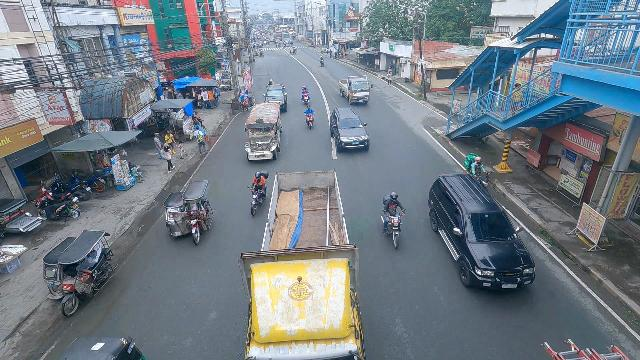car: (426, 172, 539, 295), (329, 106, 372, 152)
jeepney: (244, 102, 283, 165)
motorcycle: (382, 191, 407, 253), (244, 170, 271, 216), (303, 106, 316, 130), (300, 85, 311, 105), (319, 57, 324, 67)
truck: (241, 167, 368, 360), (337, 75, 372, 106), (263, 83, 289, 113)
